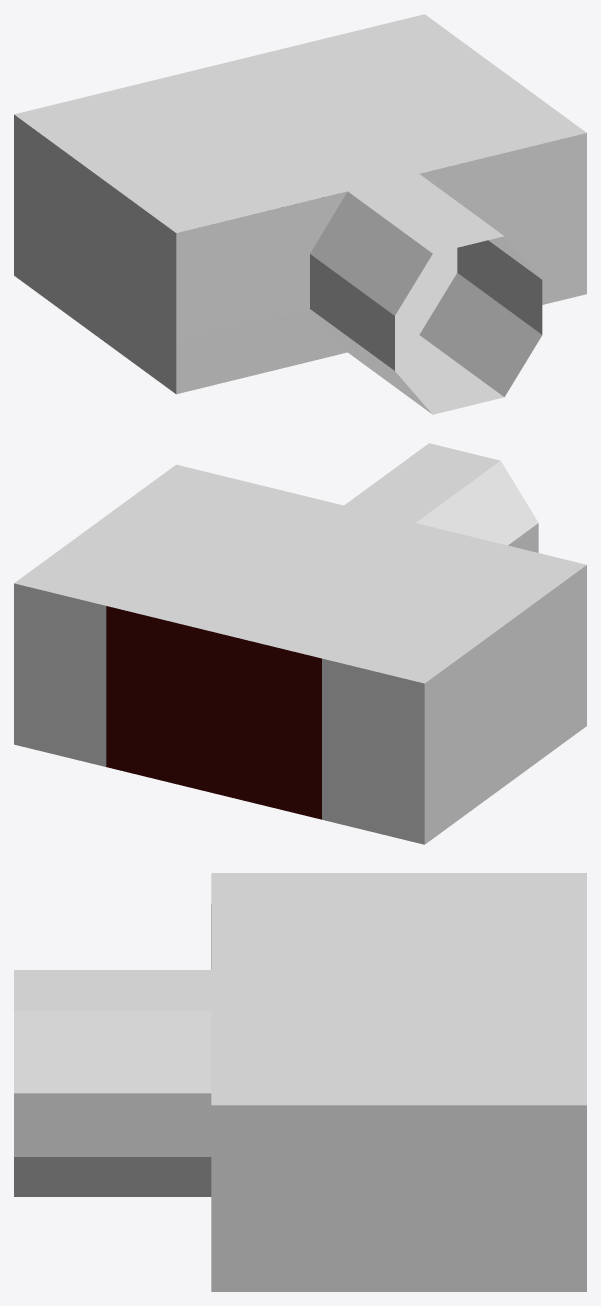
File: room1_enemyspawn.gltf
3 views of the same model, one above another, from view 1: azimuth 30°, elevation 25°; view 2: azimuth 150°, elevation 25°; view 3: azimuth 270°, elevation 25° (orthographic). The views are drawn at different scales.
Visible parts, largest first — view 1: Cylinder; view 2: Cylinder; view 3: Cylinder.
Part boxes in pixels (bbox=[...]): Cylinder: bbox=[14, 14, 586, 414]; Cylinder: bbox=[14, 443, 586, 844]; Cylinder: bbox=[14, 873, 586, 1291].
Size of the model in its own units: 19 by 7.13 by 19.83.
